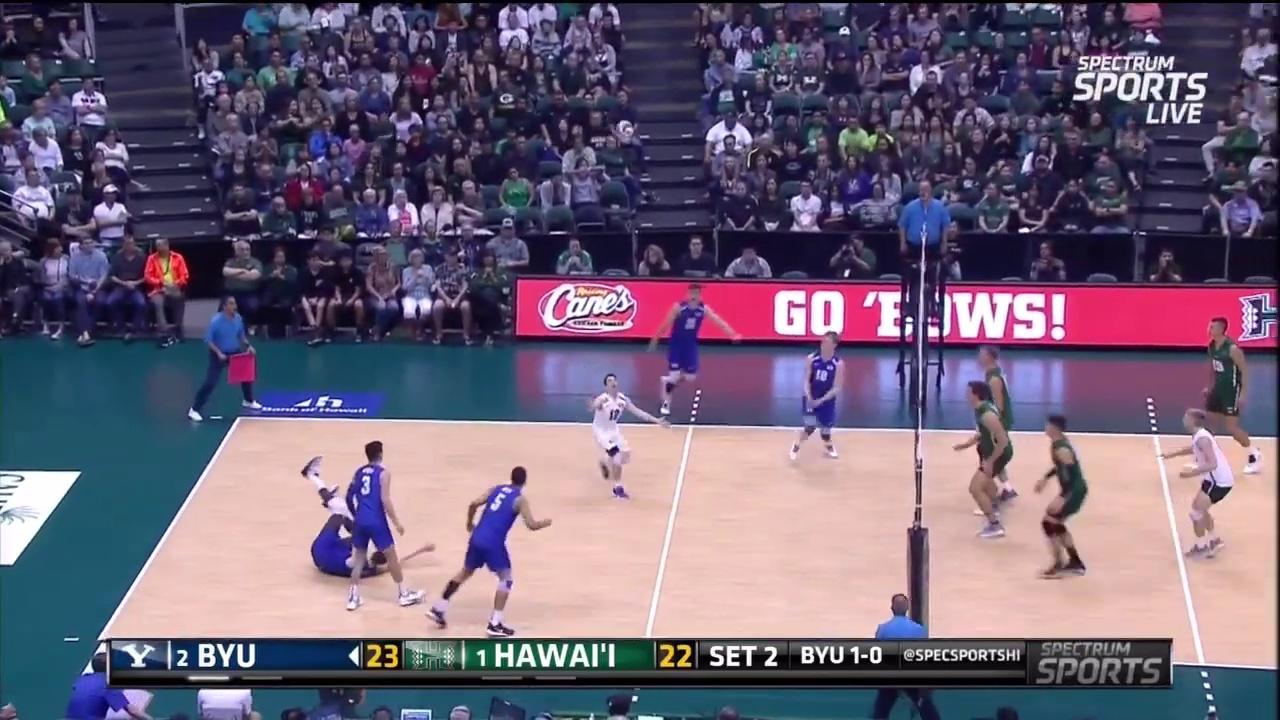player: (429, 470, 554, 633), (301, 453, 438, 576), (341, 445, 421, 608), (1185, 321, 1264, 480), (659, 286, 730, 427), (958, 382, 1017, 541), (1034, 416, 1093, 574), (1175, 410, 1239, 553), (964, 345, 1017, 515), (590, 373, 661, 498), (794, 331, 842, 461)
refree: (195, 298, 266, 417), (870, 597, 936, 718), (899, 178, 955, 315)
